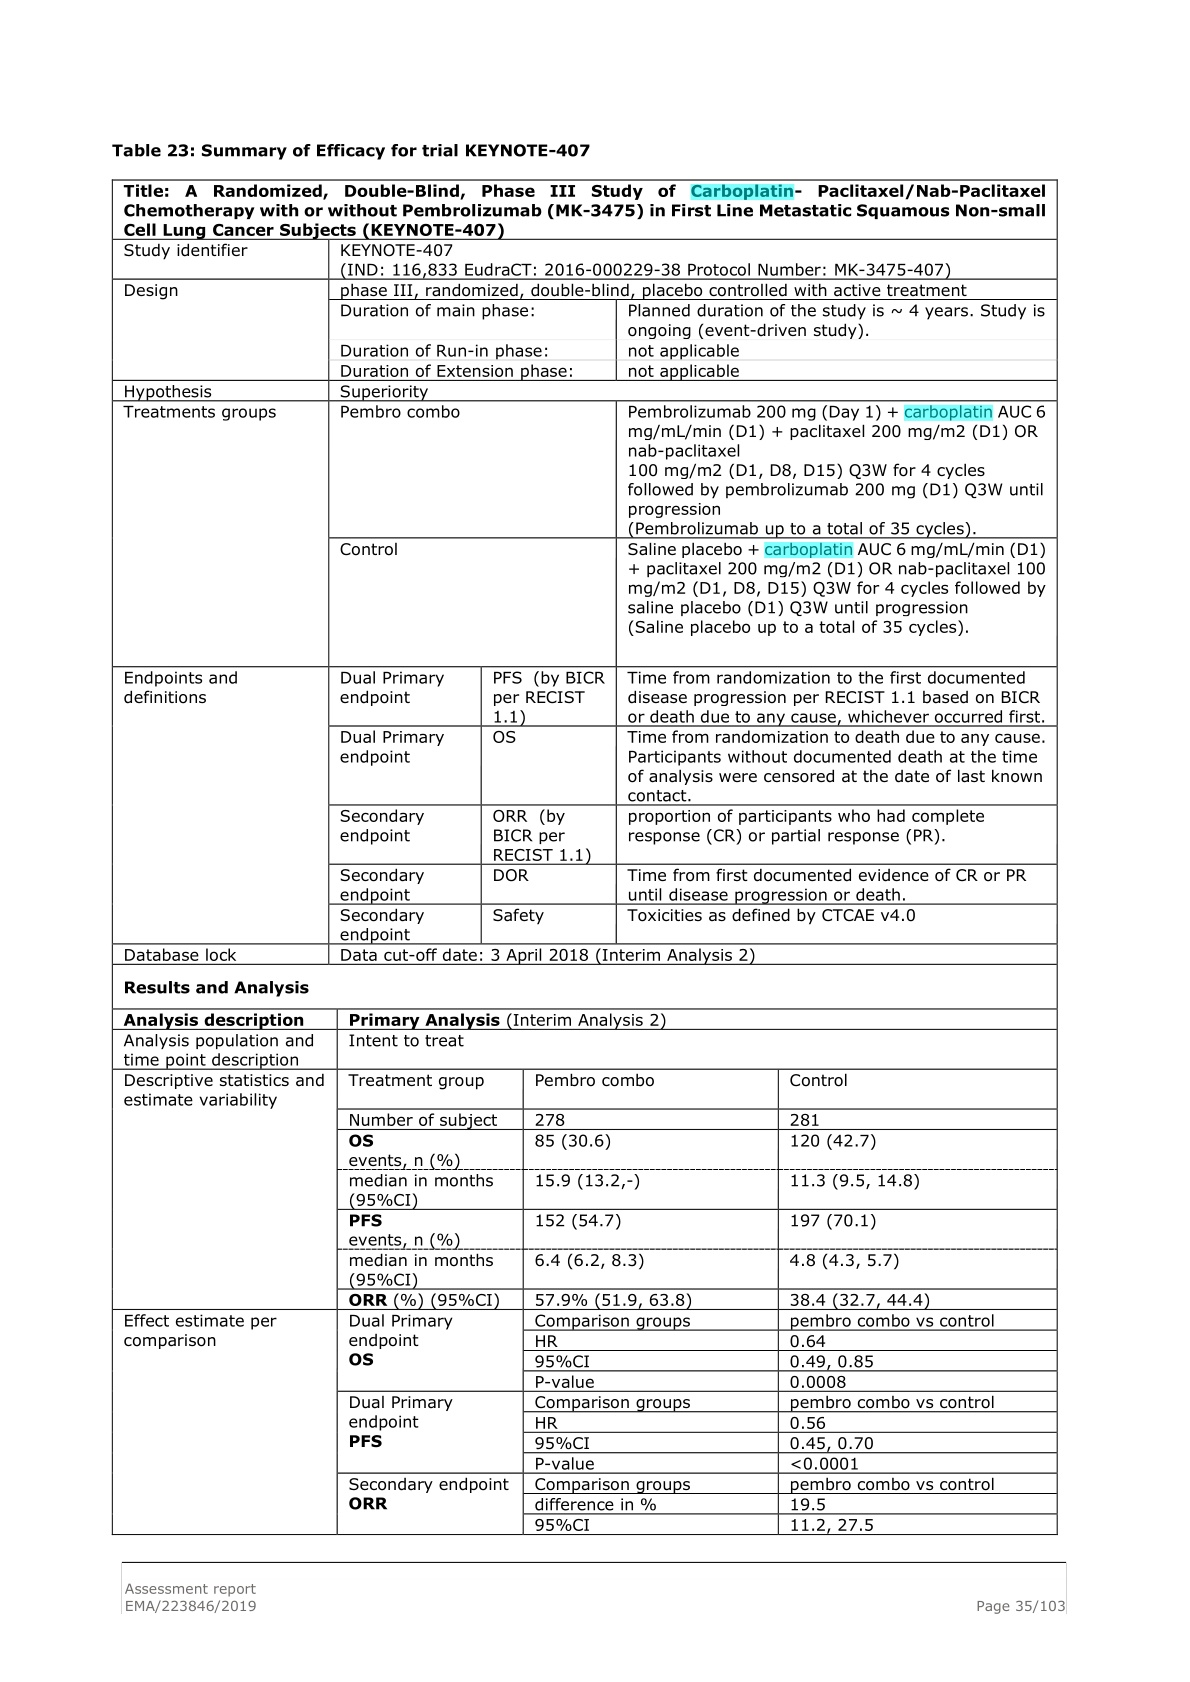merged_cells: (111, 178, 1059, 1536)
